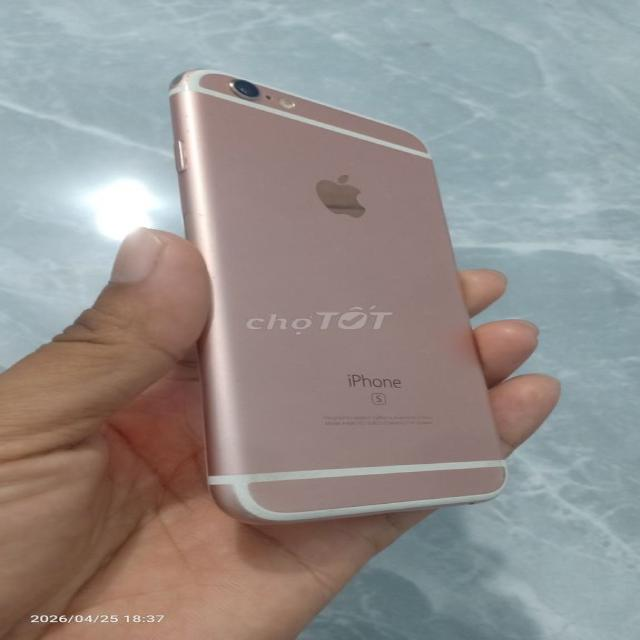gen_6: (156, 54, 561, 528)
